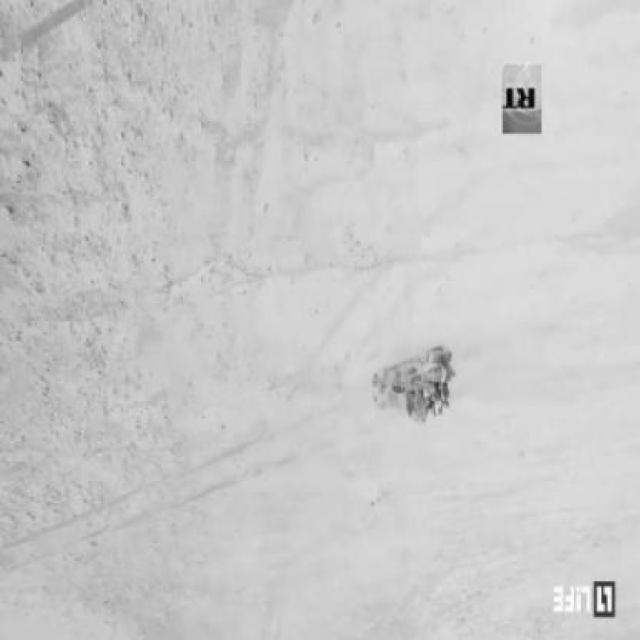Vehicle: (373, 349, 454, 425)
